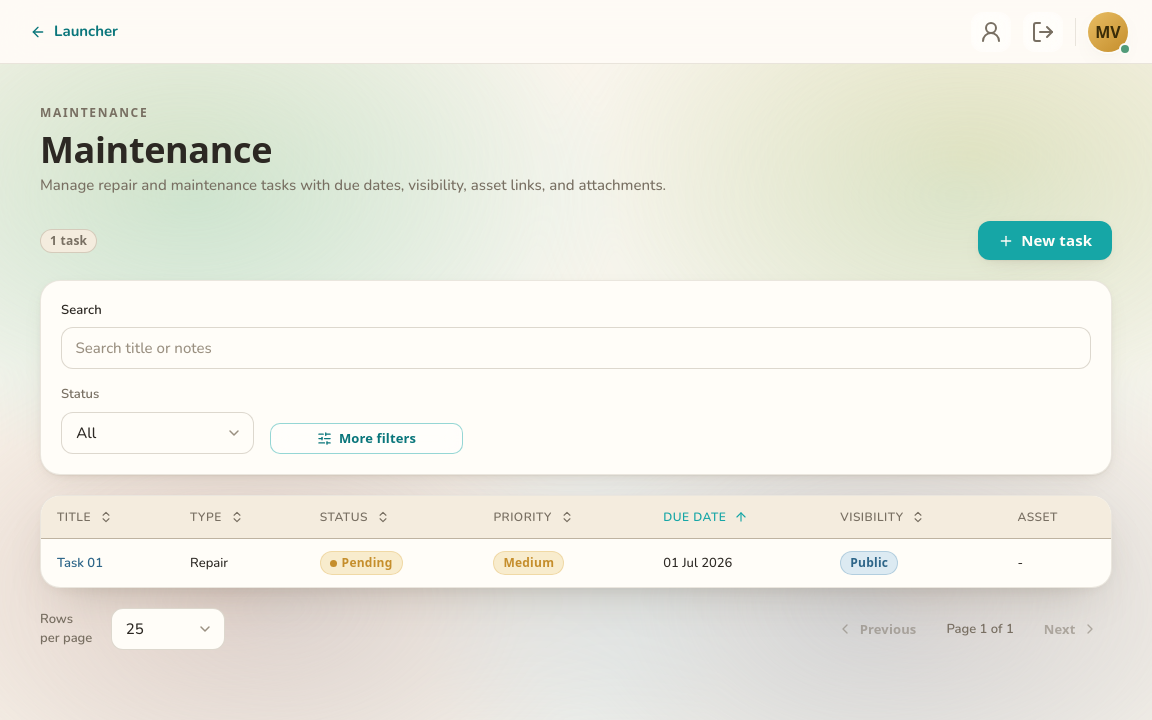
Test: Maintenance page › validates required task fields before submission
Expected: the button "Task 01" is shown, [57, 554, 103, 573]
Click the button "New task".
click(1045, 241)  # box [978, 221, 1112, 260]
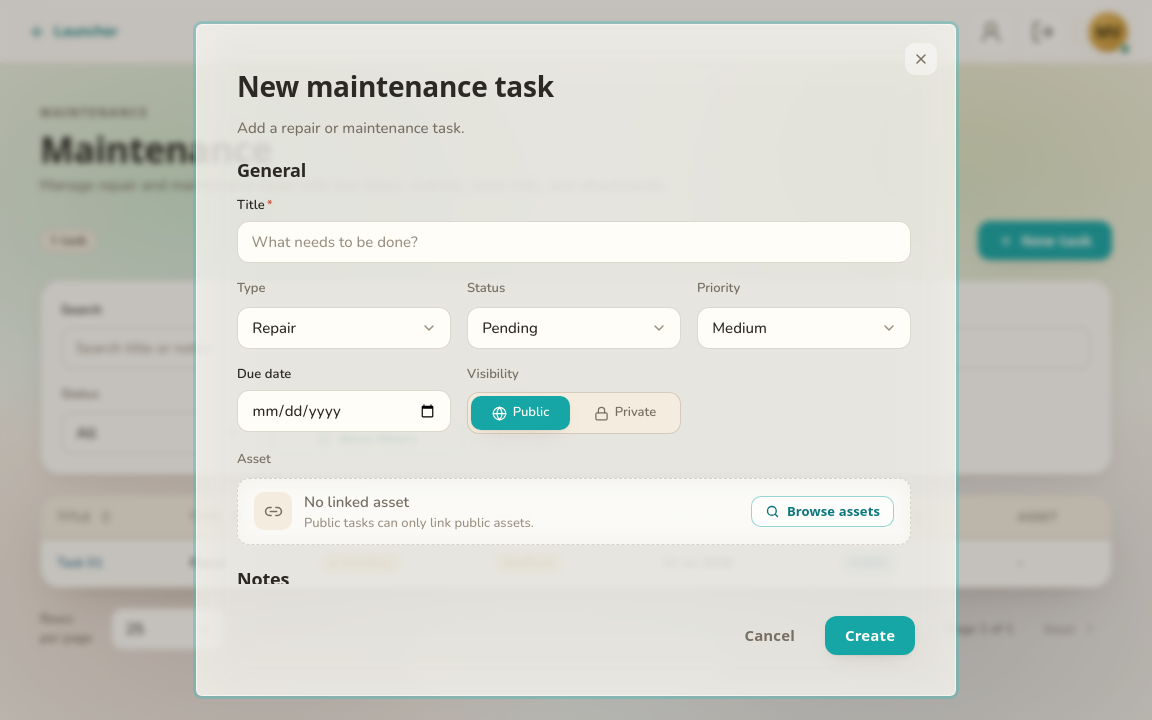
Click the button "Create".
click(870, 636)  # box [825, 616, 915, 655]
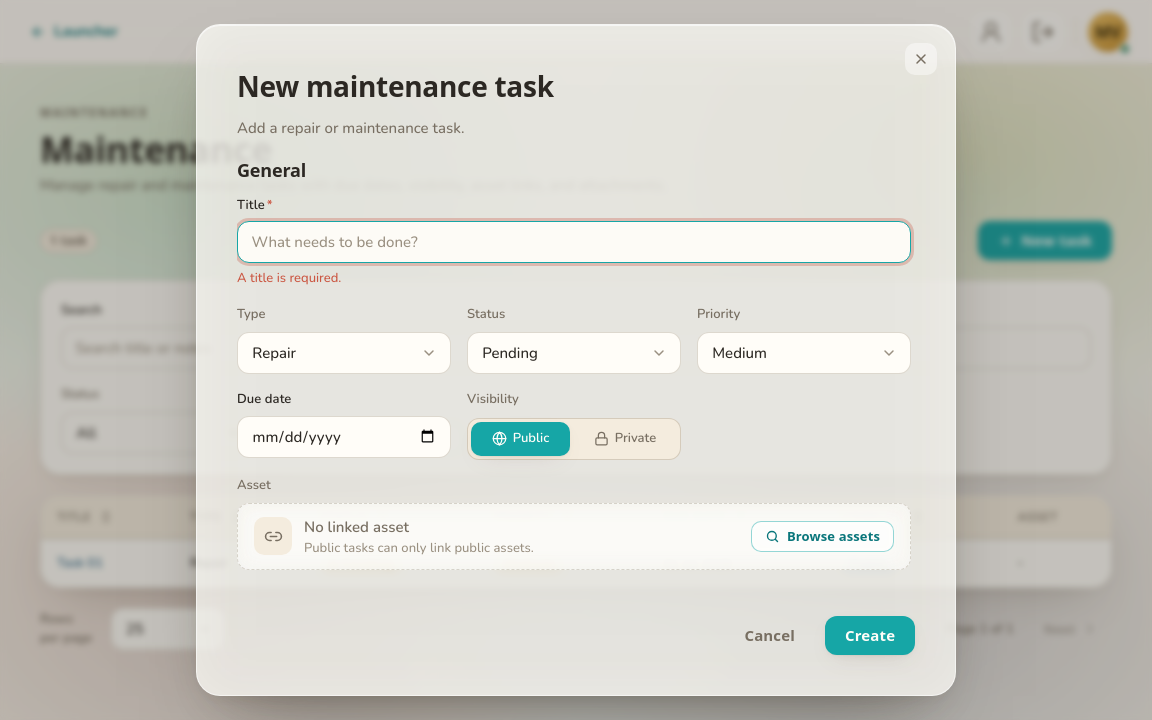
Now the text "A title is required." is shown, box [237, 269, 341, 287]
